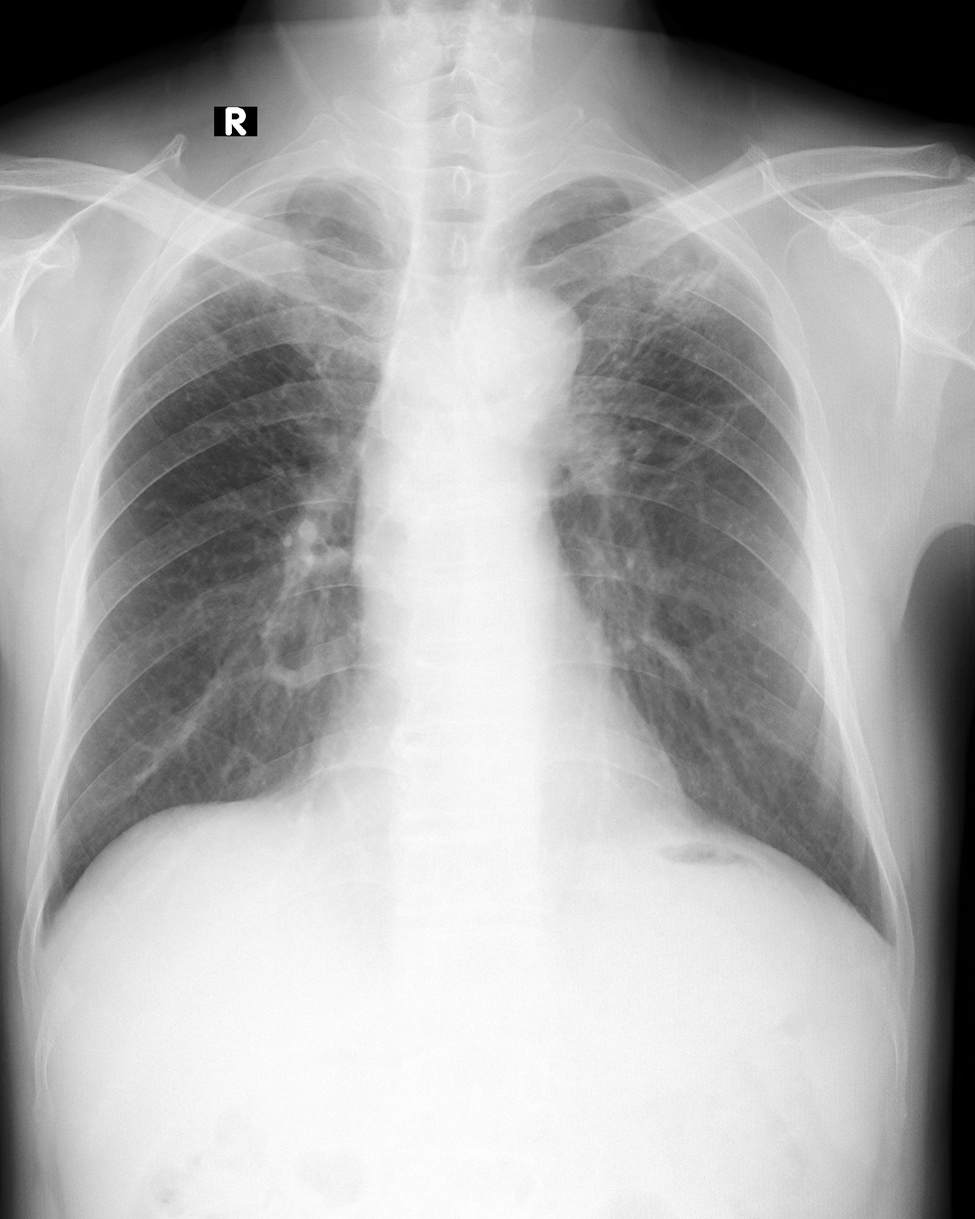Pulmonary fibrosis: (561, 202, 777, 469), (133, 237, 267, 345), (285, 212, 323, 232)
